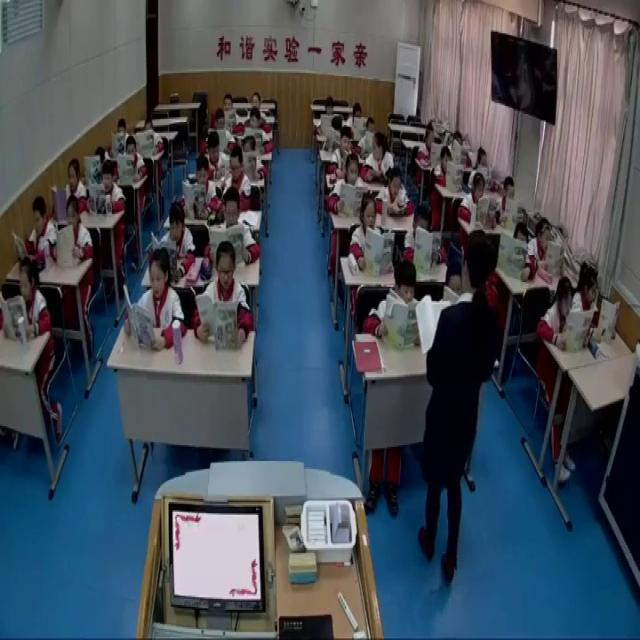distracted: (360, 128, 396, 182)
focused: (194, 238, 257, 349), (126, 248, 187, 351), (367, 259, 425, 347), (207, 190, 260, 268), (150, 200, 198, 282), (5, 256, 49, 336), (539, 277, 585, 350), (577, 265, 618, 344), (347, 190, 386, 271), (402, 200, 440, 272), (325, 153, 371, 212), (17, 197, 56, 264), (57, 197, 92, 264), (220, 144, 252, 214), (181, 155, 216, 218), (526, 220, 562, 277), (458, 173, 491, 235), (55, 156, 88, 217), (498, 172, 530, 230), (90, 161, 122, 218), (376, 168, 411, 217), (330, 122, 358, 175), (242, 133, 269, 183), (432, 145, 462, 189), (120, 138, 147, 185), (205, 130, 229, 179), (136, 115, 164, 154), (416, 121, 439, 166), (471, 146, 491, 189), (222, 95, 242, 135), (108, 117, 128, 155), (243, 103, 264, 136)
